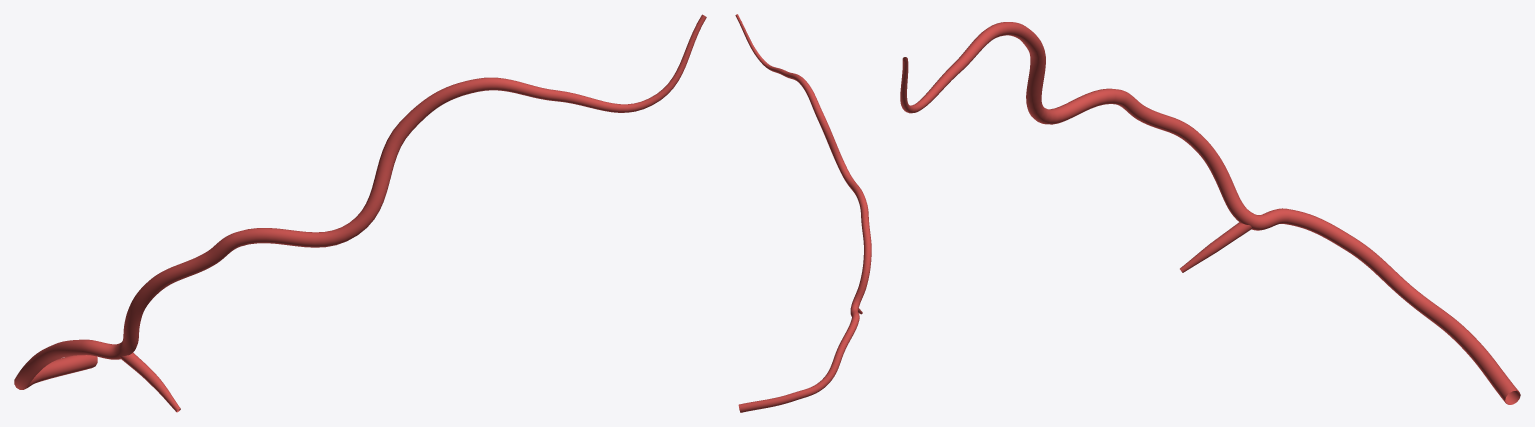
3 renders of one model, left to right at view 1: azimuth 30°, elevation 25°; view 2: azimuth 150°, elevation 25°; view 3: azimuth 270°, elevation 25°, orthographic. The views are drawn at different scales.
Parts seen in each view (by area): view 1: 右侧中央后沟动脉; view 2: 右侧中央后沟动脉; view 3: 右侧中央后沟动脉.
Part boxes in pixels (<box>): 右侧中央后沟动脉: <box>14,14,706,412</box>; 右侧中央后沟动脉: <box>735,14,871,412</box>; 右侧中央后沟动脉: <box>900,22,1520,404</box>.
Size of the model in its own units: 0.068 by 0.073 by 0.0822.
